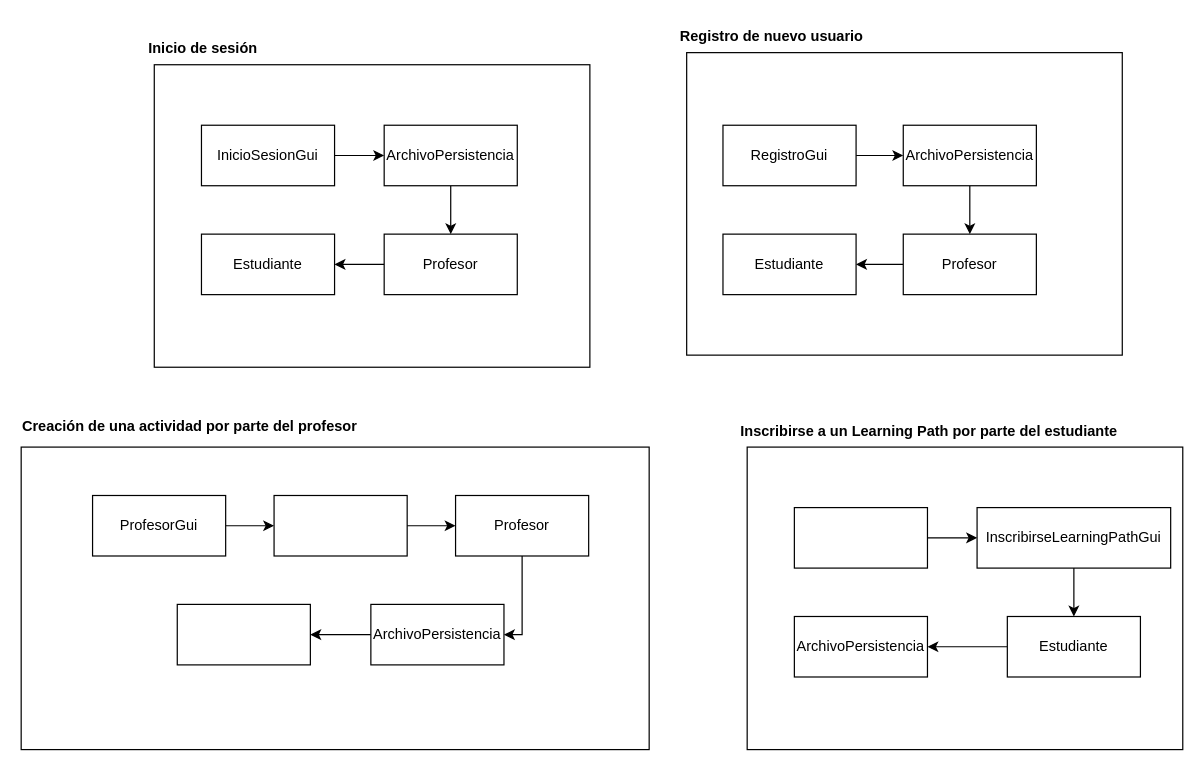
Image size: 1204x771. Some labels were removed from this diagram. Here are the shapes that lost their labels. From the top down, the centre of each, then its label:
At [340,525]: "AgregarActividadGui".
At [860,537]: "EstudianteGui".
At [243,634]: "Actividad".
